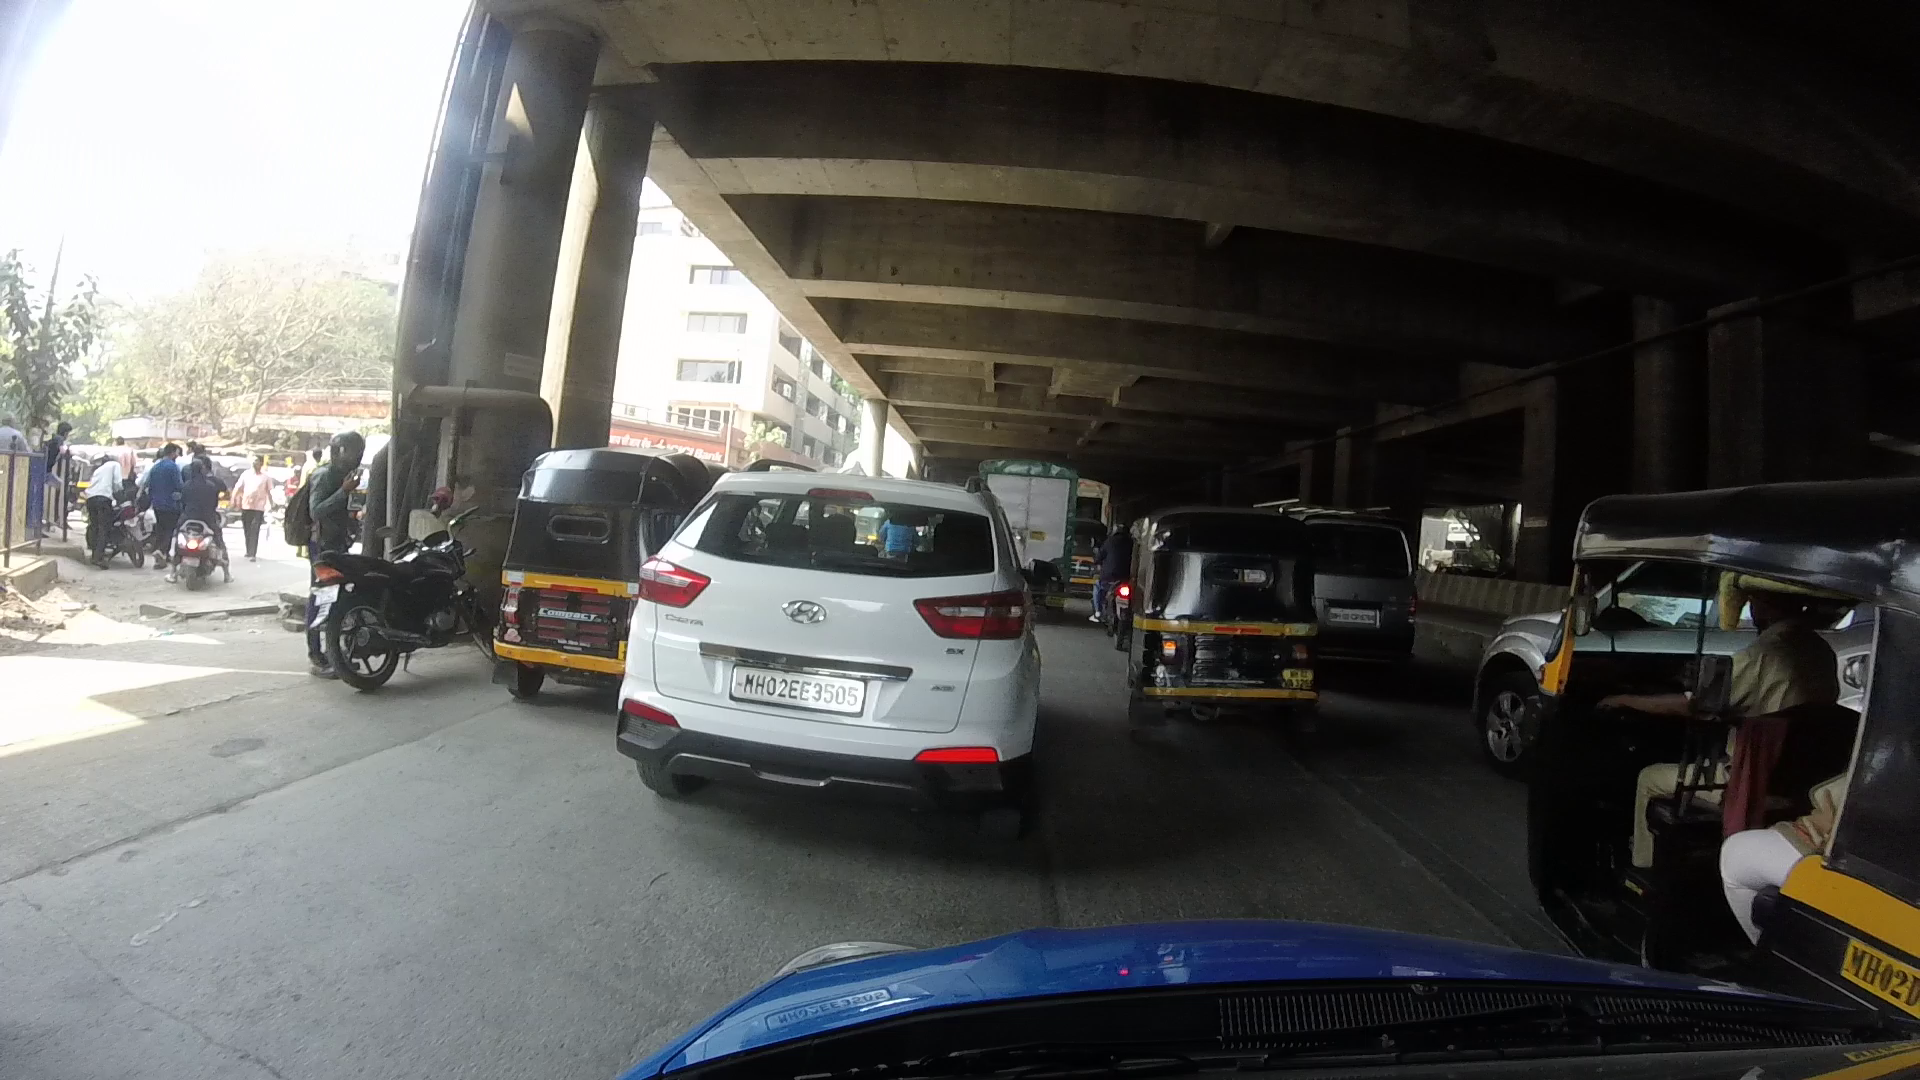bike/scooter: (269, 434, 479, 705)
car: (636, 458, 1040, 808), (1274, 496, 1458, 669)
rickshaw: (1538, 465, 1915, 1043), (479, 423, 699, 727), (1110, 491, 1323, 760)
truck: (969, 433, 1085, 605)
